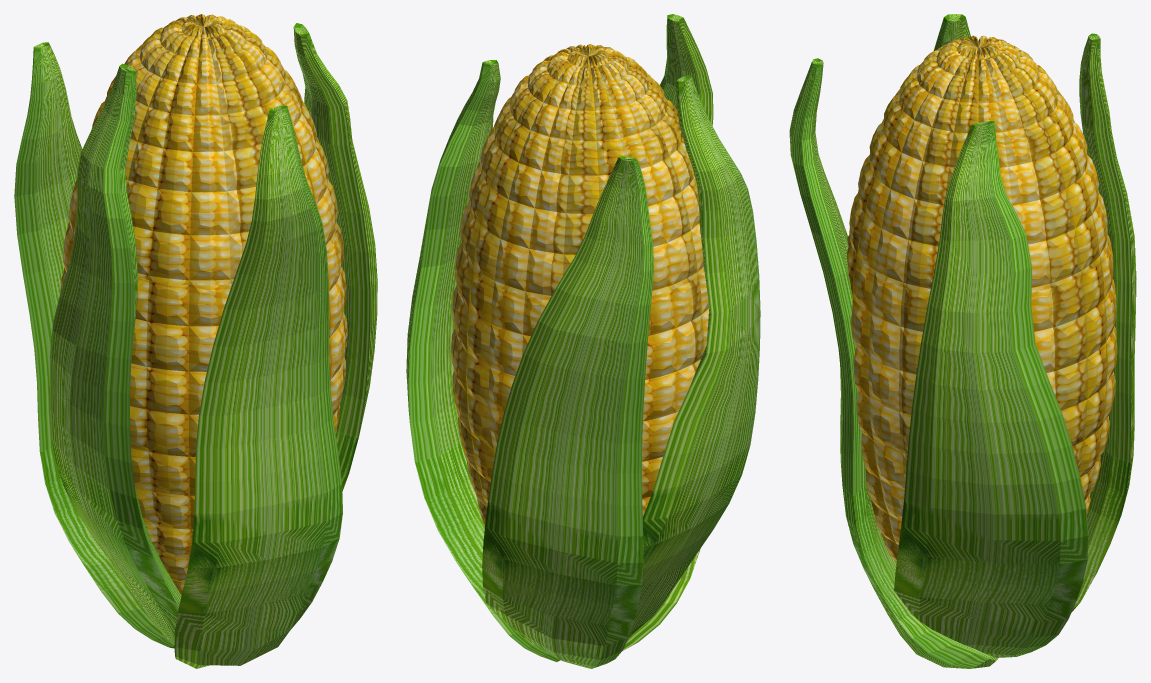
The model's file is Bullet.fbx.
3 views of the same model, side by side, from view 1: azimuth 30°, elevation 25°; view 2: azimuth 150°, elevation 25°; view 3: azimuth 270°, elevation 25° (orthographic). The views are drawn at different scales.
Parts seen in each view (by area): view 1: folhas, milho; view 2: folhas, milho; view 3: folhas, milho.
Part boxes in pixels (<box>): folhas: <box>14,23,377,668</box>; milho: <box>60,14,347,595</box>; folhas: <box>406,14,760,668</box>; milho: <box>451,44,709,525</box>; folhas: <box>789,14,1136,668</box>; milho: <box>847,35,1117,562</box>.
Size of the model in its own units: 266 by 520 by 266.
Materials: 2 (2 with a texture image).
